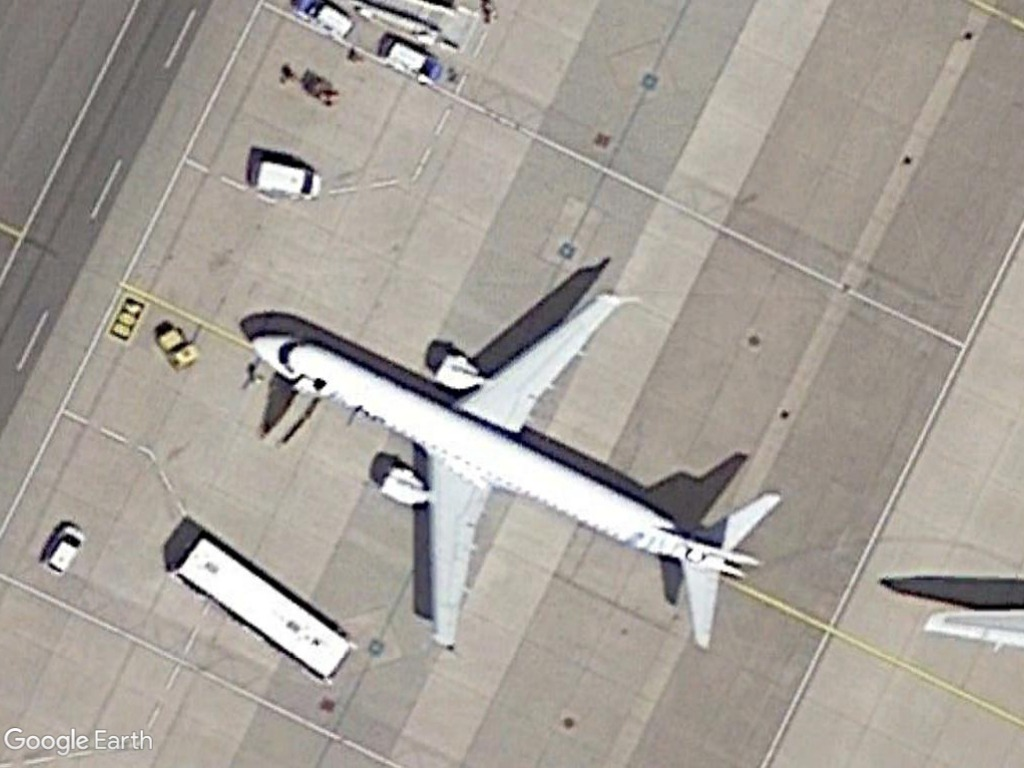airliner: (248, 285, 786, 660)
bus: (170, 530, 359, 689)
van: (251, 154, 326, 205), (39, 518, 89, 579)
